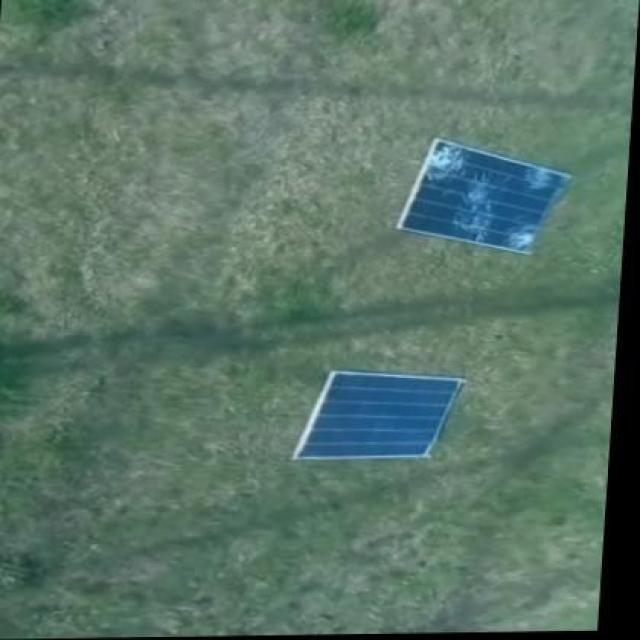cracked: (398, 137, 567, 258)
